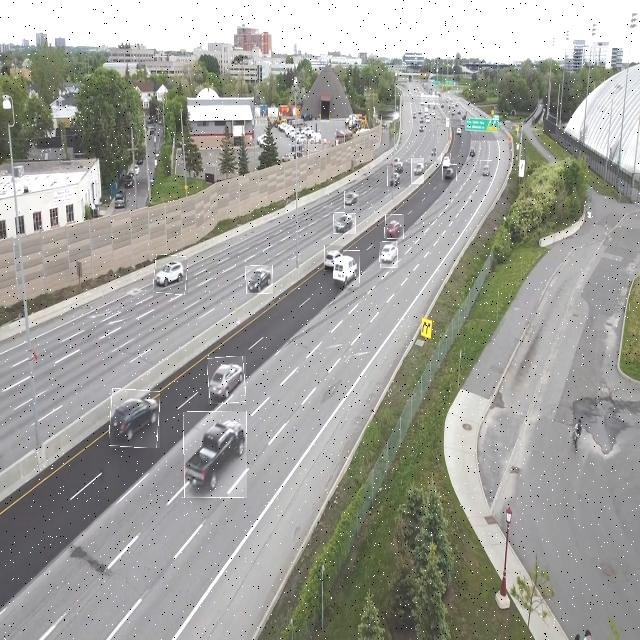Car: (110, 389, 160, 448), (208, 356, 246, 404), (154, 255, 188, 294), (334, 250, 360, 287), (246, 266, 273, 294), (324, 245, 343, 271), (385, 214, 404, 239), (380, 242, 398, 268), (334, 213, 356, 234), (411, 158, 424, 184), (344, 192, 359, 210), (443, 164, 457, 183), (387, 166, 400, 186), (480, 160, 492, 179), (442, 153, 451, 170)
Truck: (184, 412, 247, 498)
